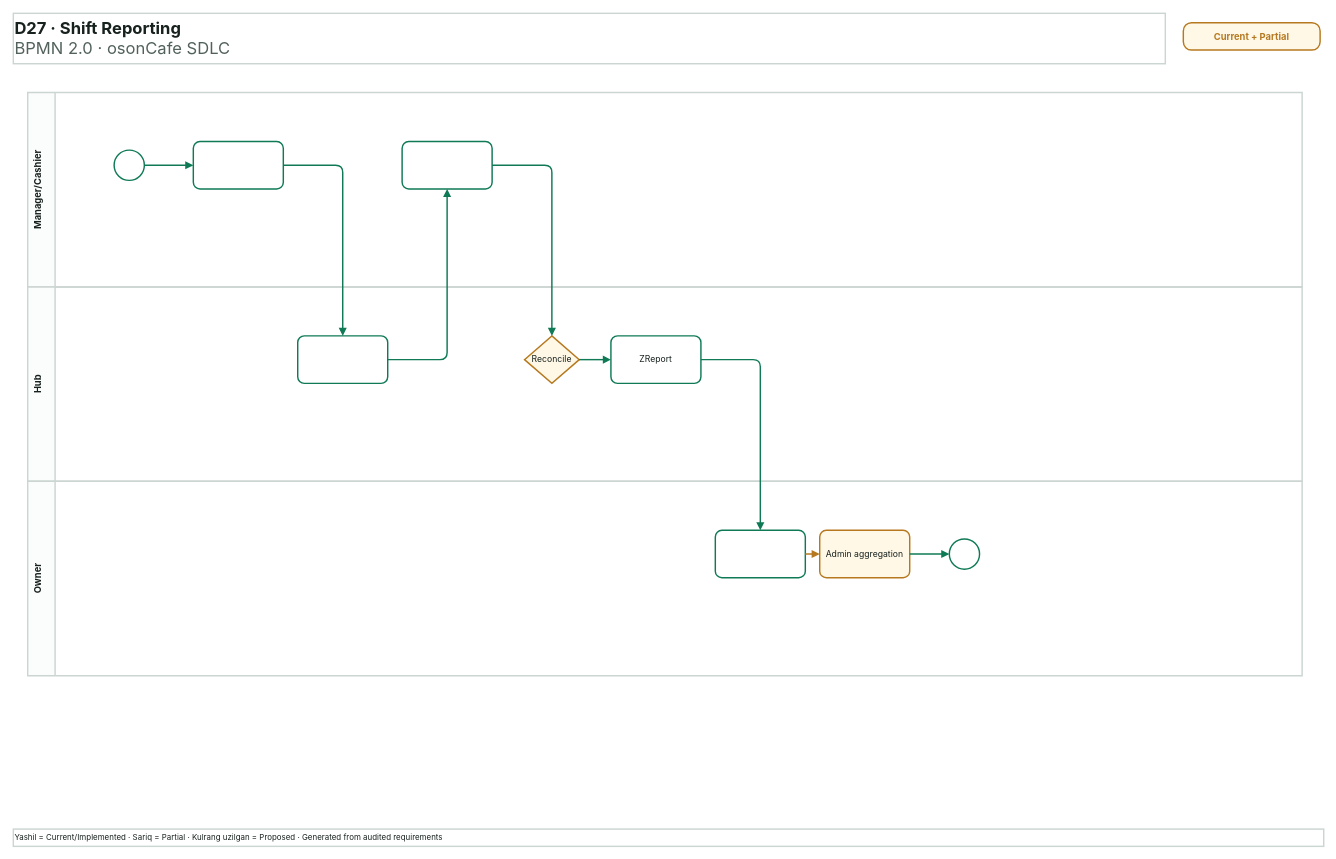
Image size: 1336x859. Some labels were removed from this diagram. Here are the shapes that lost their labels. From the top down, the centre of each, then its label:
At (238,164): "Shift open".
At (446,164): "Close + actual".
At (342,359): "Sales/cash loop".
At (760,553): "Daily report".
